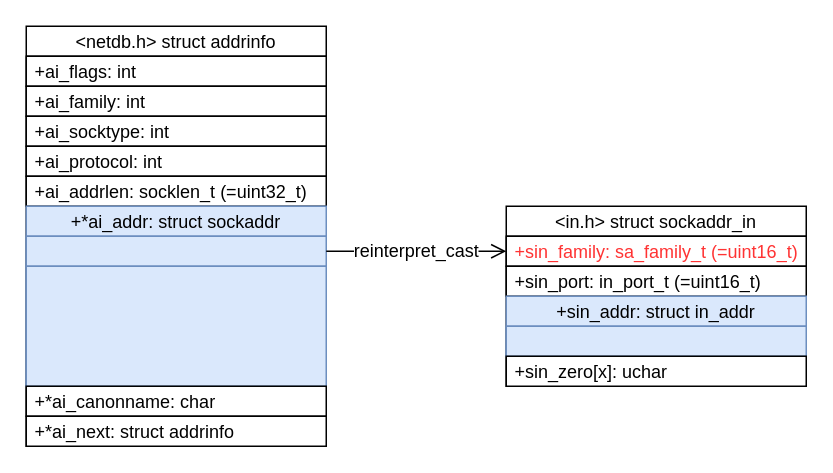
Image size: 833x473. Some labels were removed from this diagram. Each missing label, with the centre of its shape:
+s_addr: in_addr_t (=uint32_t): [655,340]
+sa_data[14]: char: [175,325]
+sa_family: sa_family_t (=uint16_t): [175,250]
